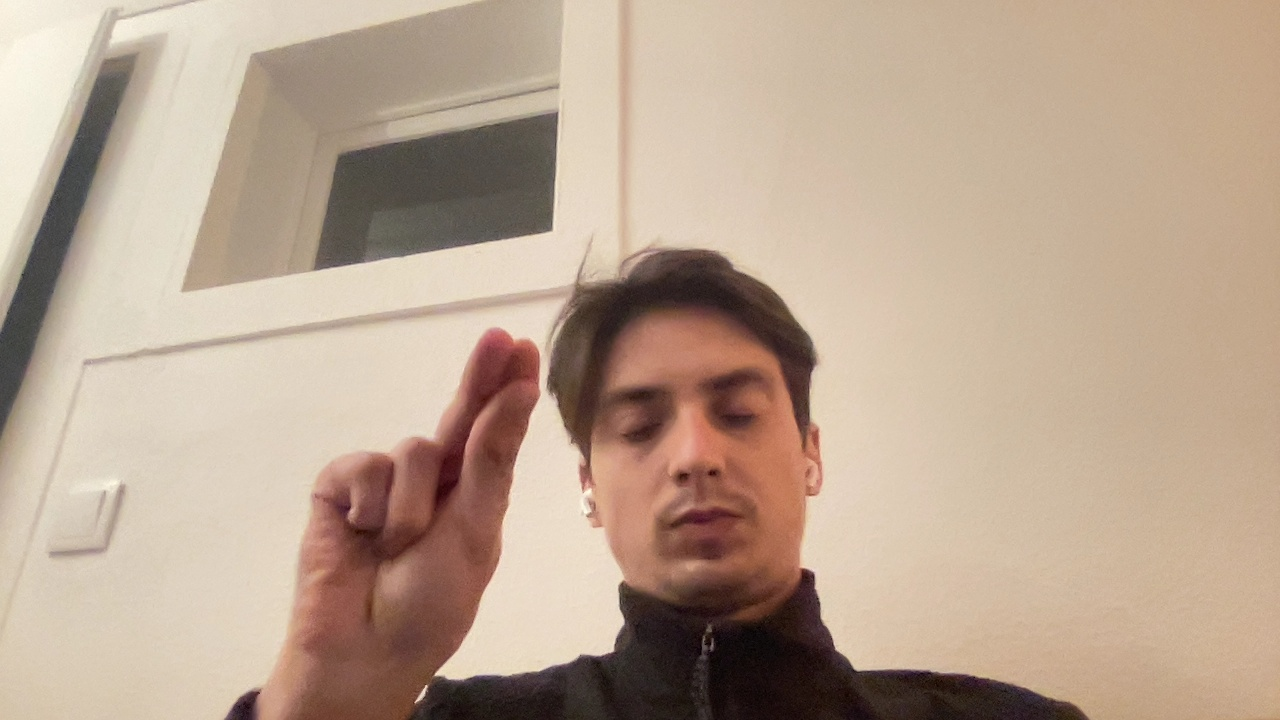no: (258, 260, 558, 707)
